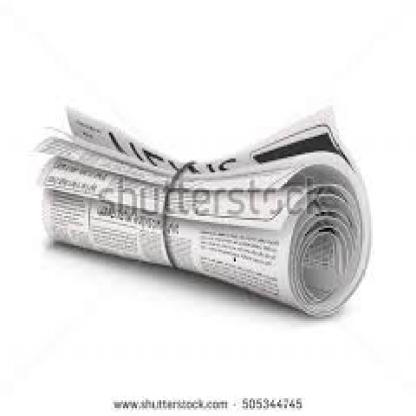Paper: (36, 67, 392, 327)
